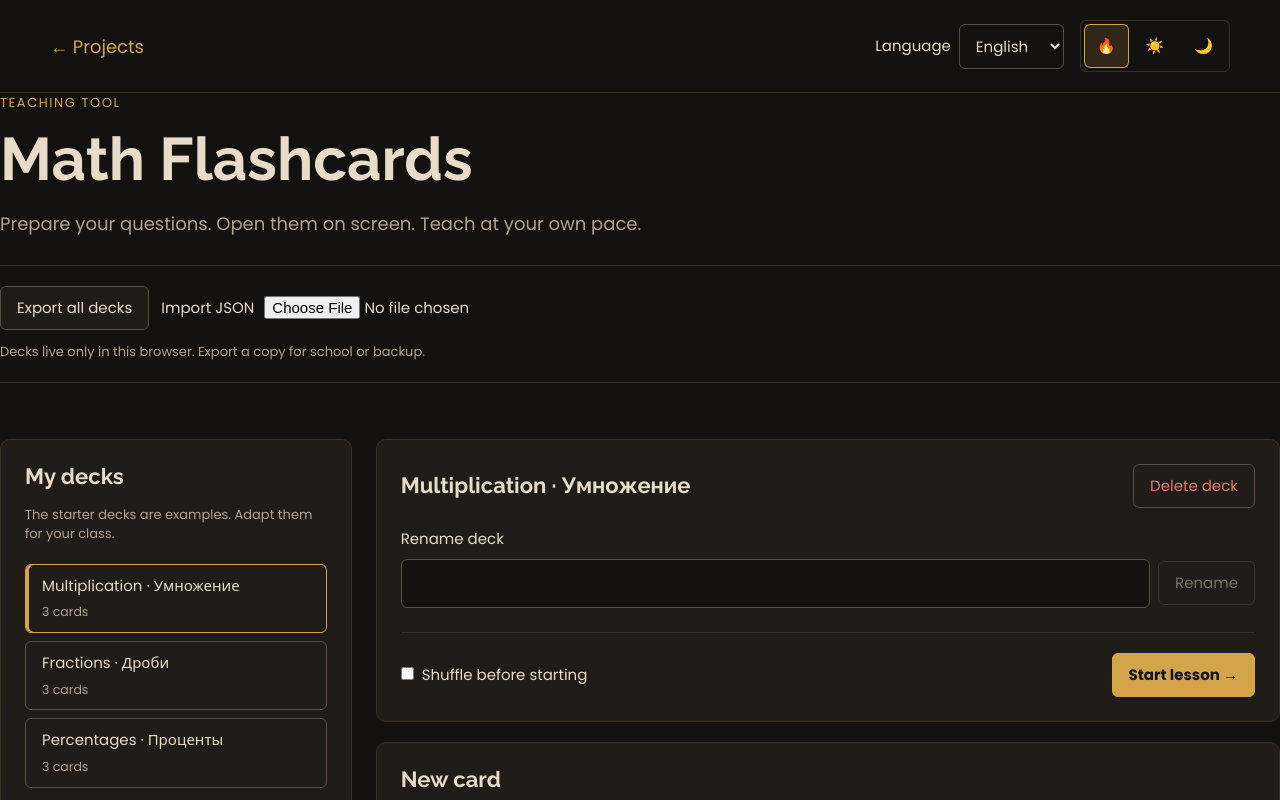
Test: does not expose answers until requested and resets on keyboard navigation
The image size is (1280, 800).
Click the button "Start lesson →" at (1183, 675), box [1112,652,1255,697]
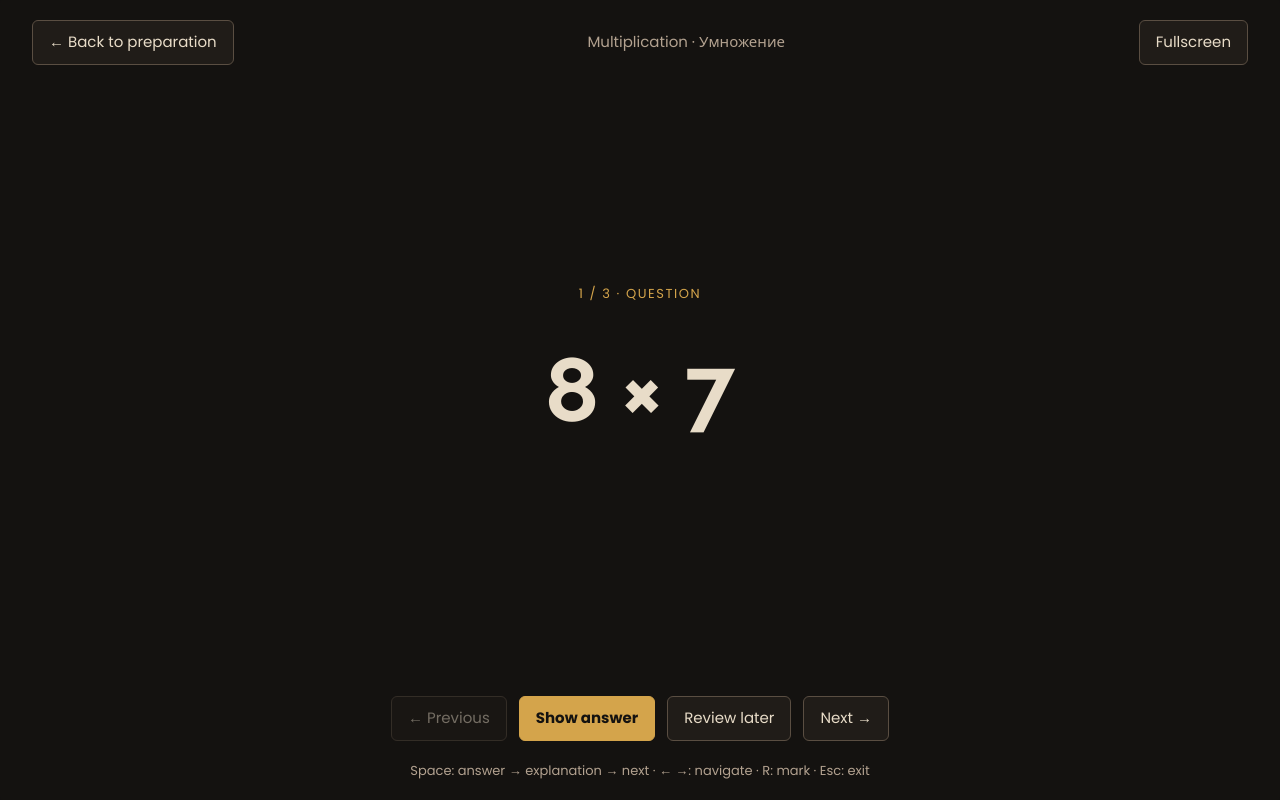
Press Space
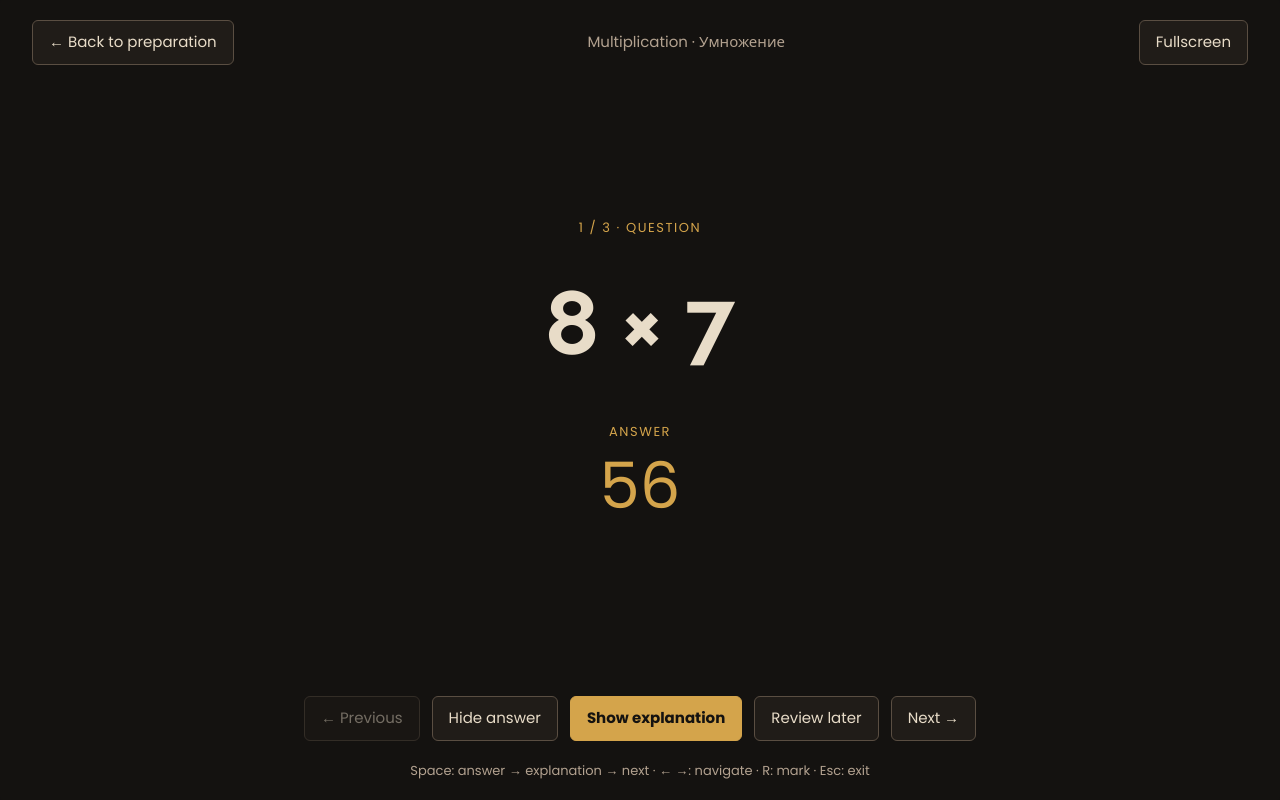
Expected: the text "8 × 5 + 8 × 2 = 40 + 16 = 56" is not shown
Now the text "56" is shown, box [600,441,680,531]
Press Space
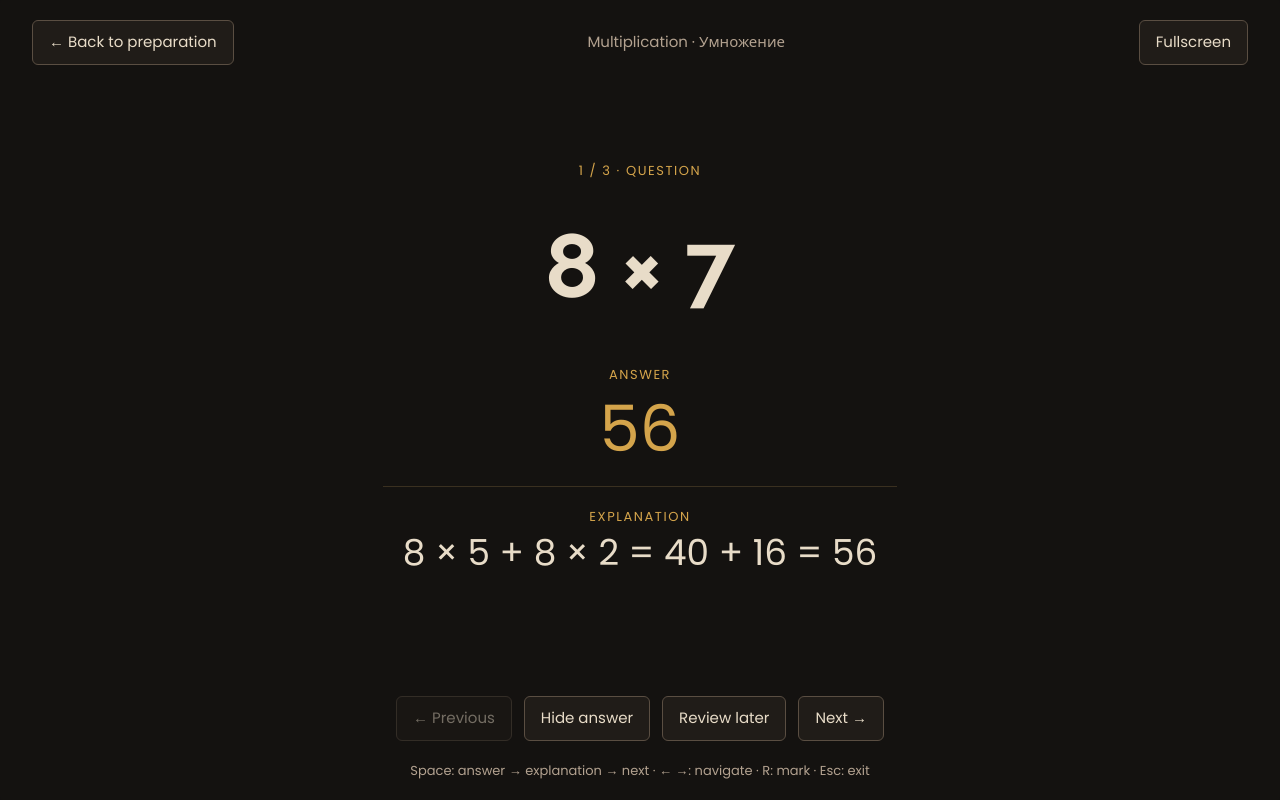
Now the text "8 × 5 + 8 × 2 = 40 + 16 = 56" is shown, box [403,526,877,580]
Press ArrowRight
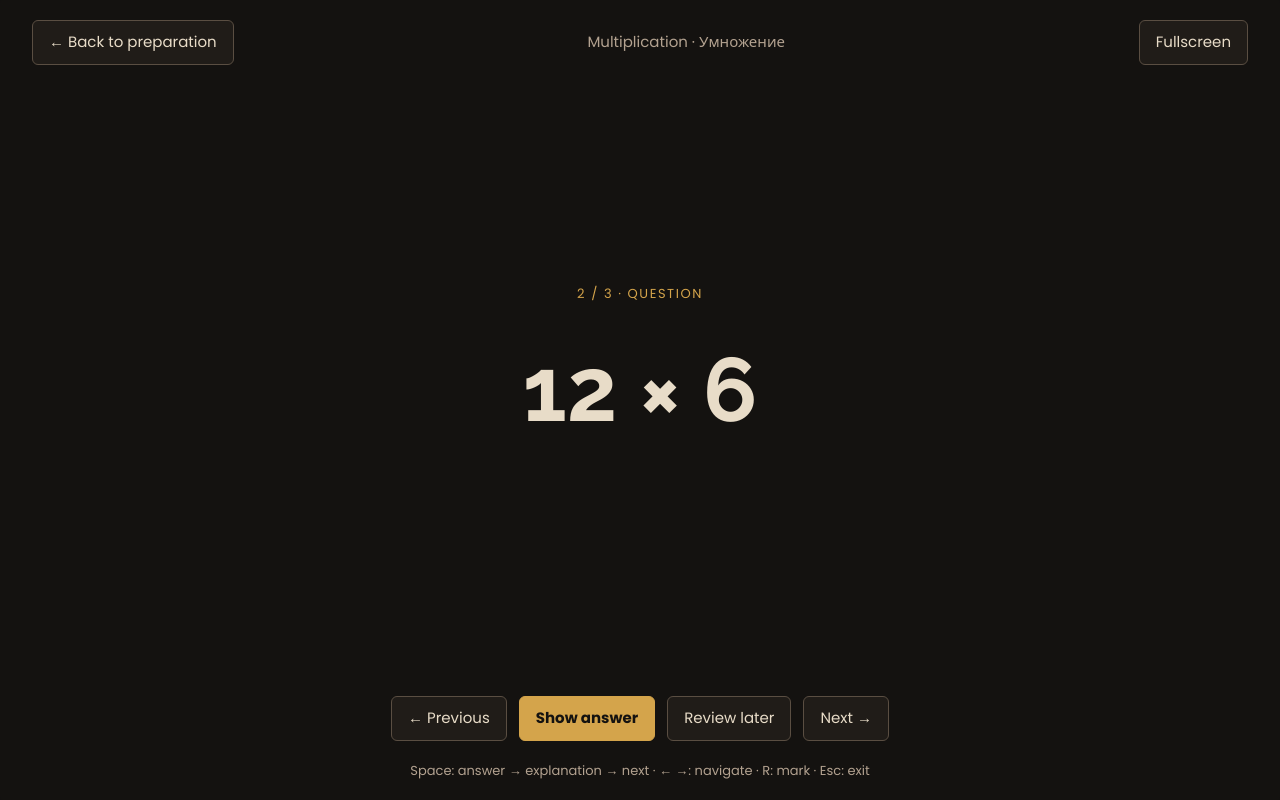
Now the heading "12 × 6" is shown, box [522,332,757,448]
Press Escape
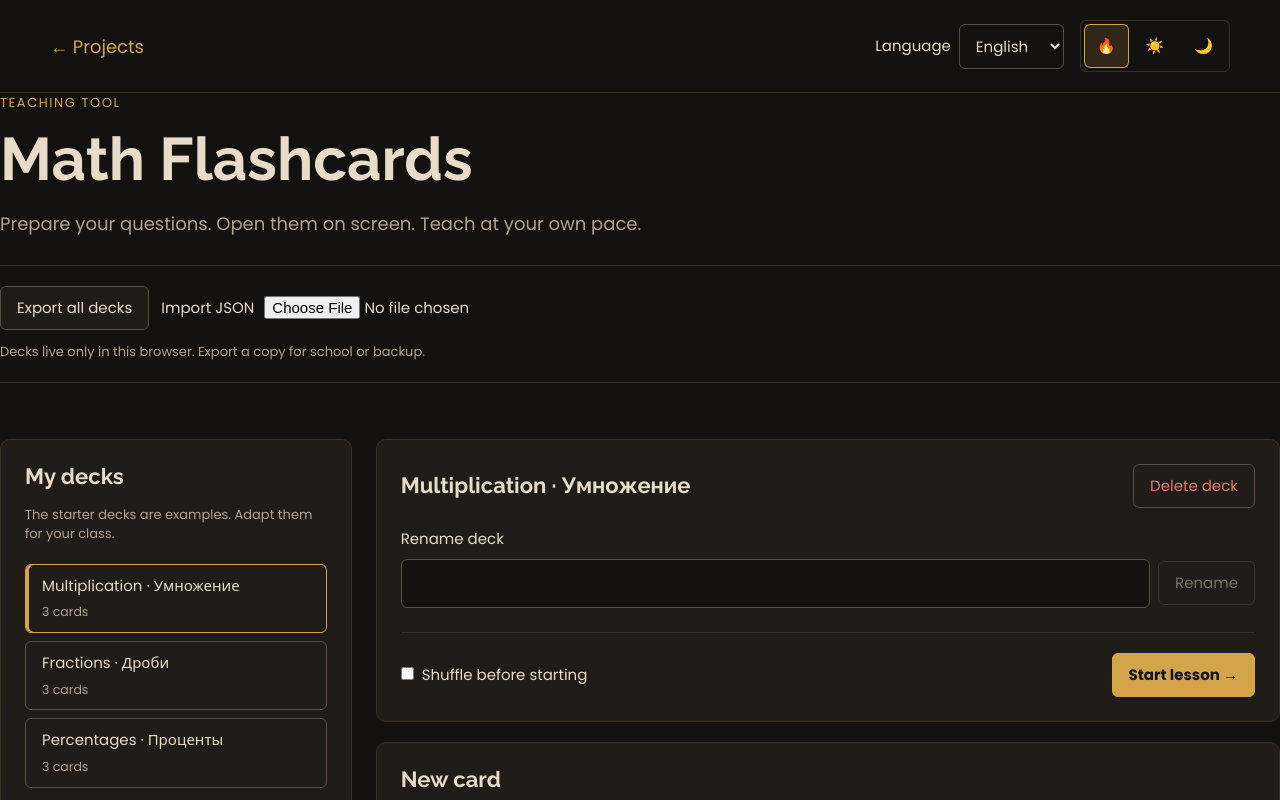
Now the heading "Math Flashcards" is shown, box [0,124,473,194]
